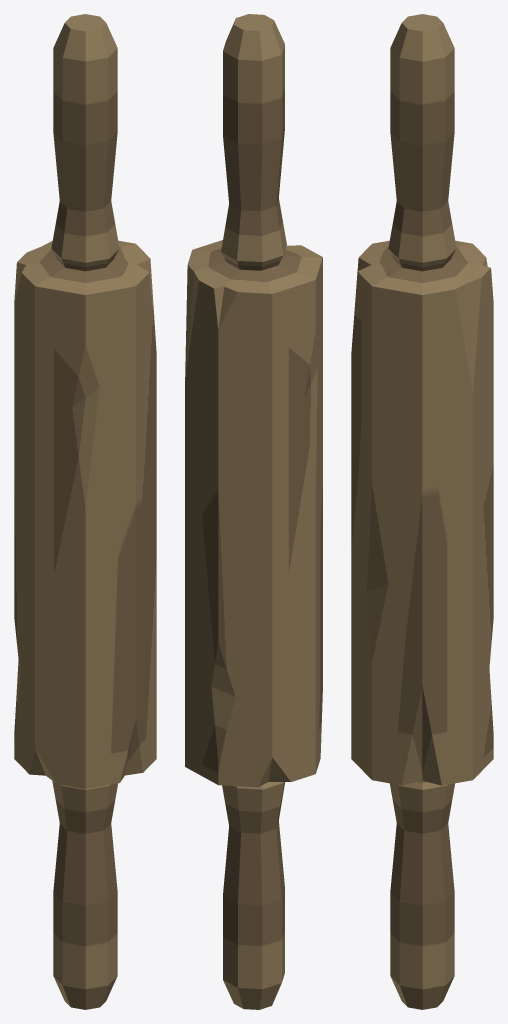
The model's file is SM_Prop_RollingPin_01.fbx.
The picture shows the model from 3 angles, left to right: view 1: azimuth 90°, elevation 25°; view 2: azimuth 150°, elevation 25°; view 3: azimuth 270°, elevation 25°; orthographic projection.
Visible parts, largest first — view 1: SM_Prop_RollingPin_01; view 2: SM_Prop_RollingPin_01; view 3: SM_Prop_RollingPin_01.
Boxes of the visible parts, x1,y1,x2,y2 form: SM_Prop_RollingPin_01: [14, 14, 156, 1009]; SM_Prop_RollingPin_01: [185, 14, 322, 1009]; SM_Prop_RollingPin_01: [351, 14, 493, 1009].
Size of the model in its own units: 5.89 by 44.6 by 5.89.
